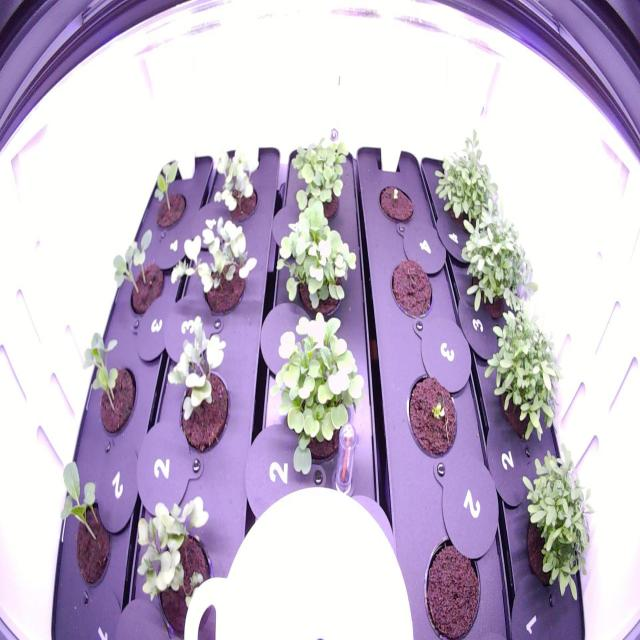germination: (403, 366, 463, 467), (112, 224, 168, 328), (150, 149, 190, 236), (373, 178, 417, 231)
pod: (418, 528, 486, 636), (386, 253, 436, 326)
